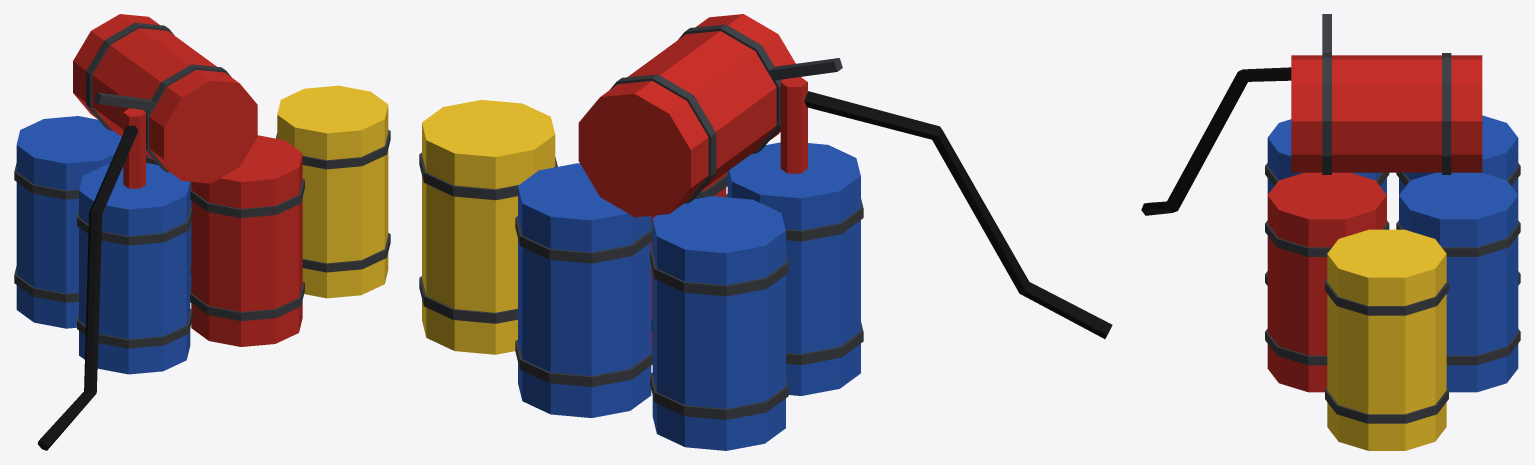
File: Turriles con bomba.fbx
3 views of the same model, side by side, from view 1: azimuth 30°, elevation 25°; view 2: azimuth 150°, elevation 25°; view 3: azimuth 270°, elevation 25° (orthographic). The views are drawn at different scales.
Visible parts, largest first — view 1: Turriles con bomba; view 2: Turriles con bomba; view 3: Turriles con bomba.
Part boxes in pixels (box(x1,y1,x2,y2)): Turriles con bomba: box(14, 14, 390, 450); Turriles con bomba: box(419, 14, 1112, 450); Turriles con bomba: box(1141, 14, 1520, 450).
Bounding box in the file's own units: 2.31 × 1.31 × 1.59.
